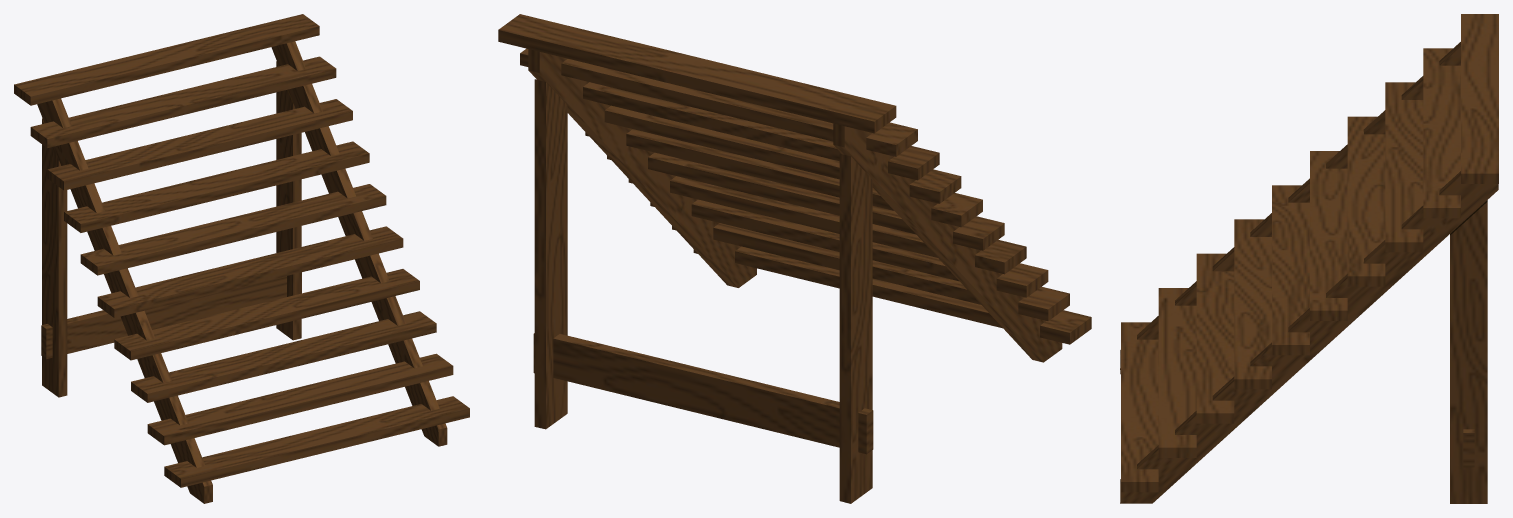
File: Wooden_Stairs.obj
3 views of the same model, side by side, from view 1: azimuth 30°, elevation 25°; view 2: azimuth 150°, elevation 25°; view 3: azimuth 270°, elevation 25° (orthographic). The views are drawn at different scales.
Visible parts, largest first — view 1: Cube_Cube.001; view 2: Cube_Cube.001; view 3: Cube_Cube.001.
Boxes of the visible parts, x1,y1,x2,y2 form: Cube_Cube.001: (14,14,469,503); Cube_Cube.001: (498,14,1091,503); Cube_Cube.001: (1120,14,1498,503).
Size of the model in its own units: 1 by 1 by 1.
